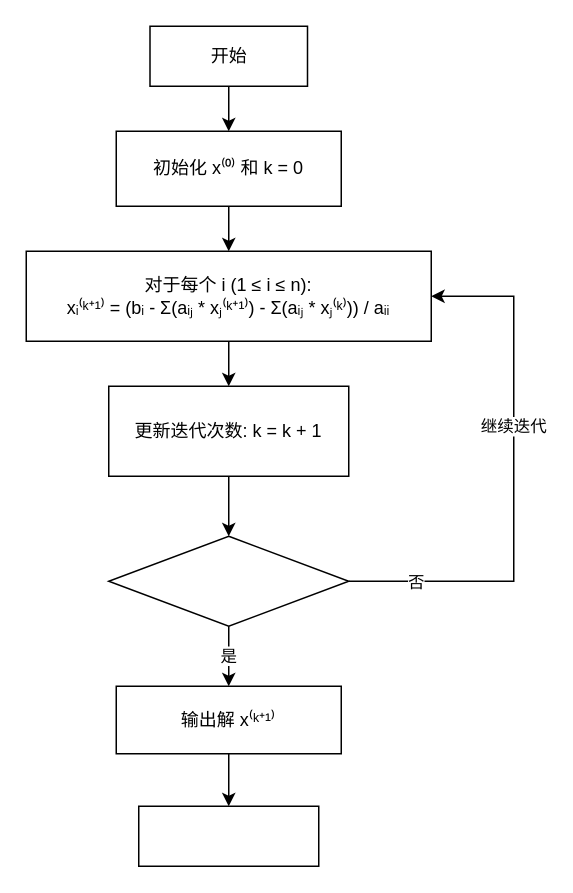
Some shapes in this 573 by 893 pixel diagram are drawn without their labels. The box of each missing label's shape, as (x1, y1, x2, y2) in pixels:
收敛条件满足？ ||x⁽ᵏ⁺¹⁾ - x⁽ᵏ⁾|| < ε: (107, 535, 349, 626)
结束: (137, 805, 319, 866)
